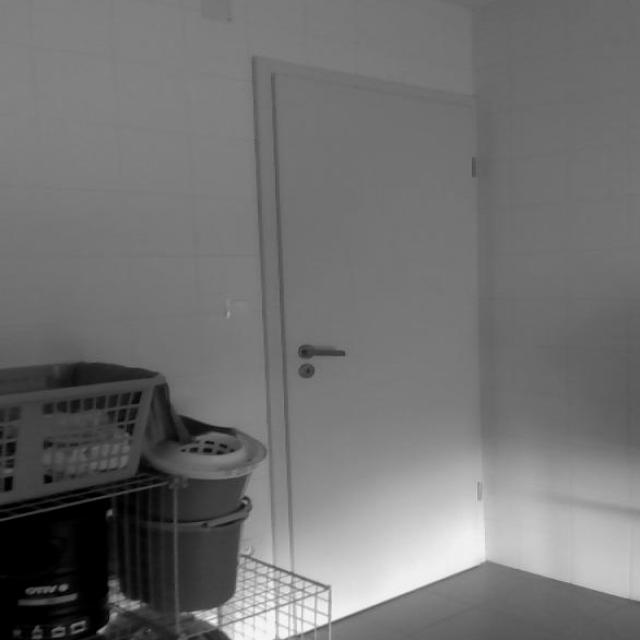Door: (255, 55, 487, 628)
